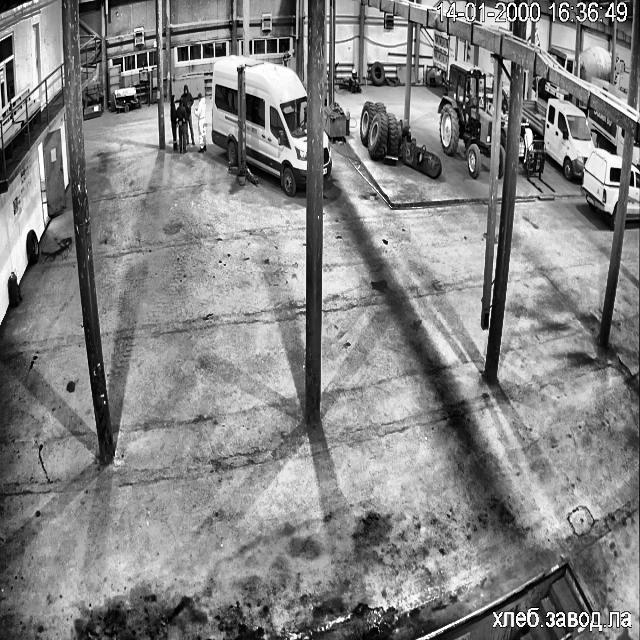class4: (180, 84, 194, 145), (196, 92, 206, 151), (176, 100, 186, 153), (170, 93, 178, 150)
class6: (438, 61, 492, 178), (498, 142, 504, 177), (496, 114, 499, 116)
class7: (212, 55, 307, 196), (522, 99, 593, 179), (581, 148, 621, 228), (588, 108, 624, 156), (576, 45, 610, 83), (592, 80, 626, 105), (626, 165, 640, 220), (548, 45, 574, 73), (536, 77, 565, 100), (323, 132, 332, 178), (614, 55, 624, 84), (632, 142, 640, 164)
tractor: (8, 272, 21, 306)
truck: (228, 64, 257, 185)
